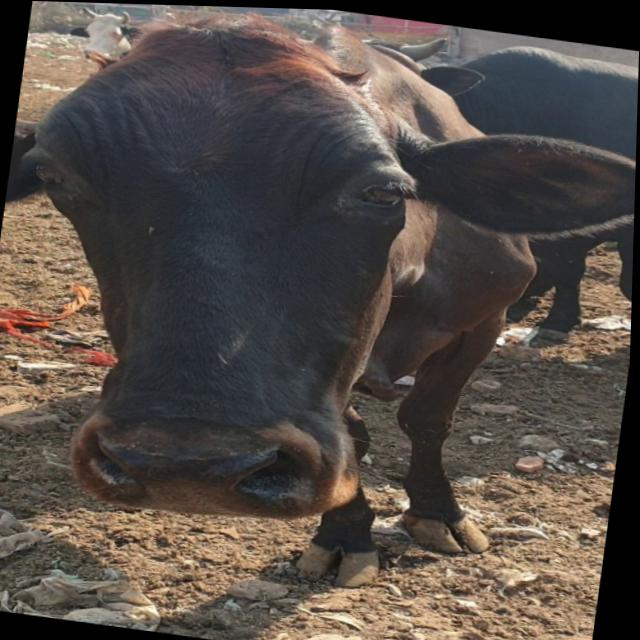cowFace: (9, 1, 432, 556), (73, 2, 136, 66)
